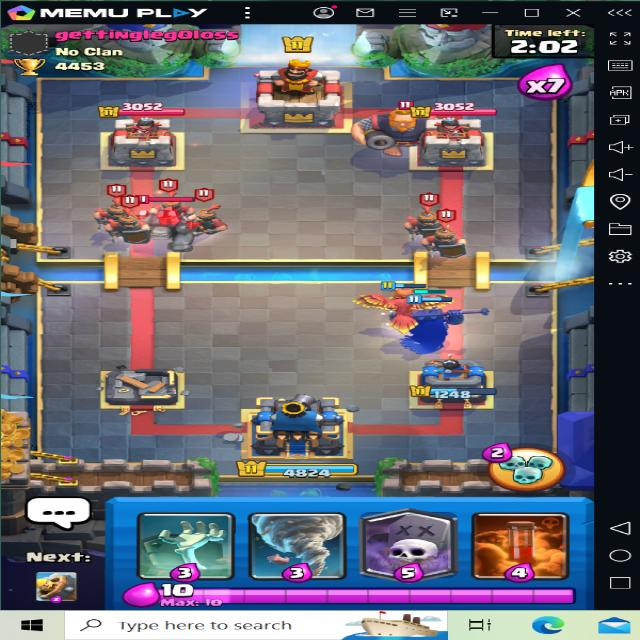Golem: (116, 193, 215, 252)
Royalgiant: (351, 100, 453, 154)
Royalrecruits: (182, 188, 242, 242), (148, 174, 202, 230), (88, 178, 134, 235), (419, 210, 472, 258), (405, 190, 454, 241), (105, 198, 155, 244)
